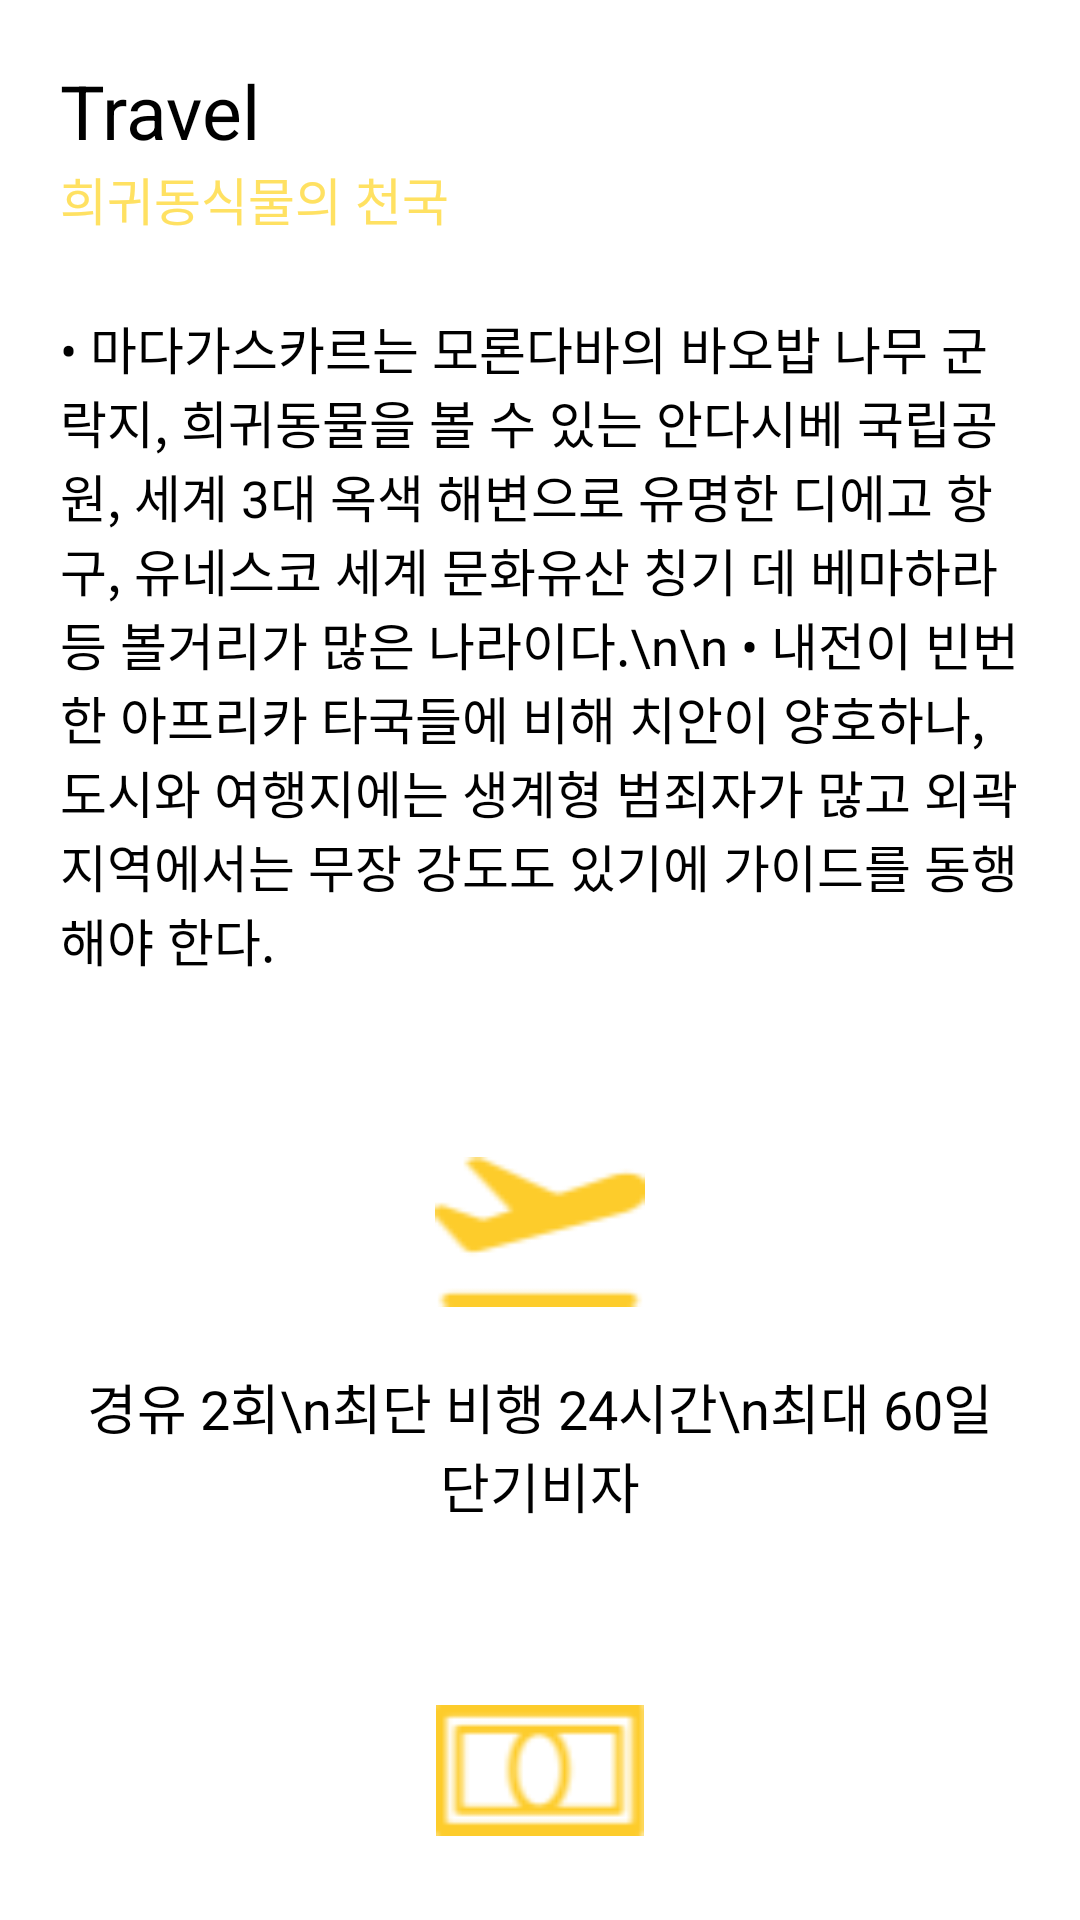

Icons on this 1080px×1920px Android screen, each with its box as (x1, y1, x2, y2):
airplane: (435, 1157, 645, 1307)
money: (436, 1705, 644, 1836)
